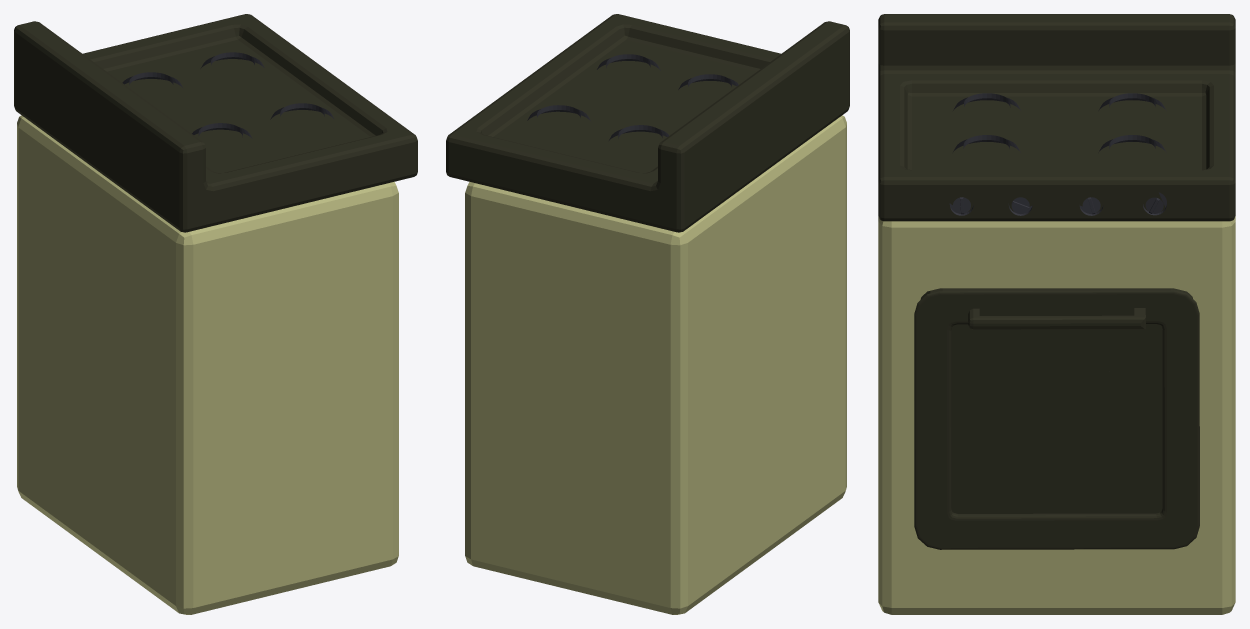
The model's file is estufa.fbx.
3 views of the same model, side by side, from view 1: azimuth 30°, elevation 25°; view 2: azimuth 150°, elevation 25°; view 3: azimuth 270°, elevation 25° (orthographic). The views are drawn at different scales.
Parts seen in each view (by area): view 1: Cube, Cube.001; view 2: Cube, Cube.001; view 3: Cube.004, Cube.001, Cube.
Boxes of the visible parts, x1=… form: Cube: x1=17, y1=115, x2=398, y2=614; Cube.001: x1=14, y1=14, x2=417, y2=232; Cube: x1=465, y1=115, x2=846, y2=614; Cube.001: x1=446, y1=14, x2=849, y2=232; Cube.004: x1=914, y1=288, x2=1199, y2=549; Cube.001: x1=878, y1=14, x2=1235, y2=221; Cube: x1=878, y1=216, x2=1235, y2=614.
Bounding box in the file's own units: 133 × 245 × 160.
